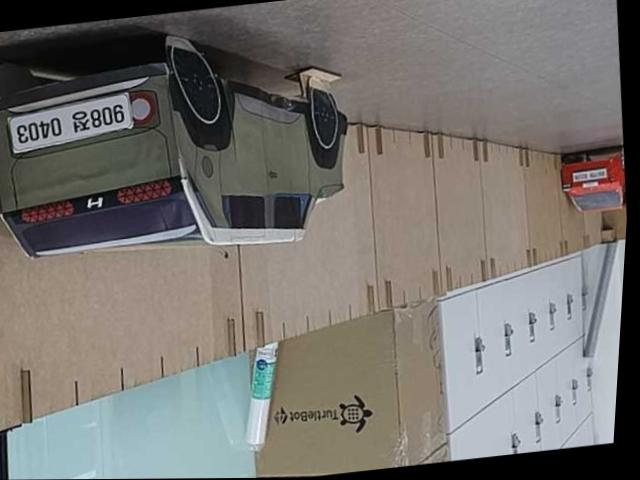car: (0, 15, 369, 277), (556, 147, 630, 217)
id: (6, 97, 136, 153), (567, 167, 608, 186)
